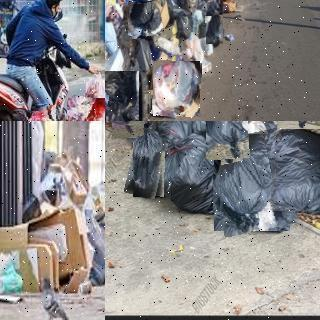Garbage: (210, 131, 295, 234), (157, 132, 221, 213), (271, 128, 320, 214), (128, 121, 169, 198), (152, 60, 201, 117), (105, 71, 139, 121), (205, 121, 249, 159), (126, 0, 162, 37), (82, 66, 105, 120), (65, 96, 105, 121), (15, 105, 70, 121), (108, 121, 141, 138), (206, 16, 223, 44)
